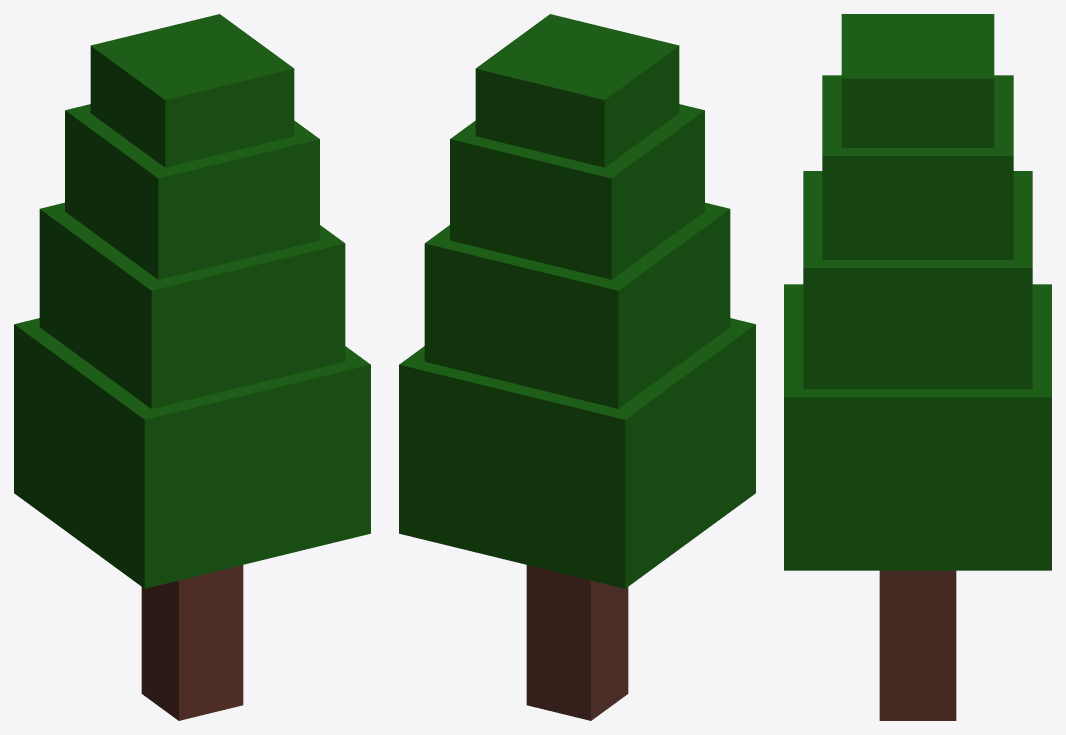
Rendered from GiantTree.fbx.
The picture shows the model from 3 angles, left to right: view 1: azimuth 30°, elevation 25°; view 2: azimuth 150°, elevation 25°; view 3: azimuth 270°, elevation 25°; orthographic projection. The views are drawn at different scales.
Visible parts, largest first — view 1: Cube.002, Cube.003, Cube.004, Cube.005, Cube.001; view 2: Cube.002, Cube.003, Cube.004, Cube.005, Cube.001; view 3: Cube.002, Cube.003, Cube.004, Cube.005, Cube.001.
Boxes of the visible parts, box(x1,y1,x2,y2) form: Cube.002: box(14, 318, 370, 588); Cube.003: box(39, 202, 345, 408); Cube.004: box(65, 104, 319, 279); Cube.005: box(90, 14, 294, 167); Cube.001: box(141, 565, 243, 720); Cube.002: box(399, 318, 755, 588); Cube.003: box(424, 202, 730, 408); Cube.004: box(450, 104, 704, 279); Cube.005: box(475, 14, 679, 167); Cube.001: box(526, 565, 628, 720); Cube.002: box(784, 284, 1051, 570); Cube.003: box(803, 171, 1032, 389); Cube.004: box(822, 75, 1013, 259); Cube.005: box(841, 14, 994, 147); Cube.001: box(879, 570, 956, 720).
Size of the model in its own units: 70 by 190 by 70.
